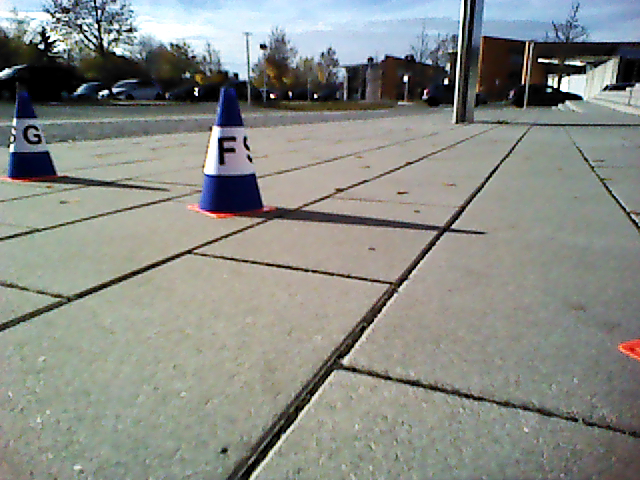bluecone: (200, 86, 261, 212), (8, 91, 54, 178)
